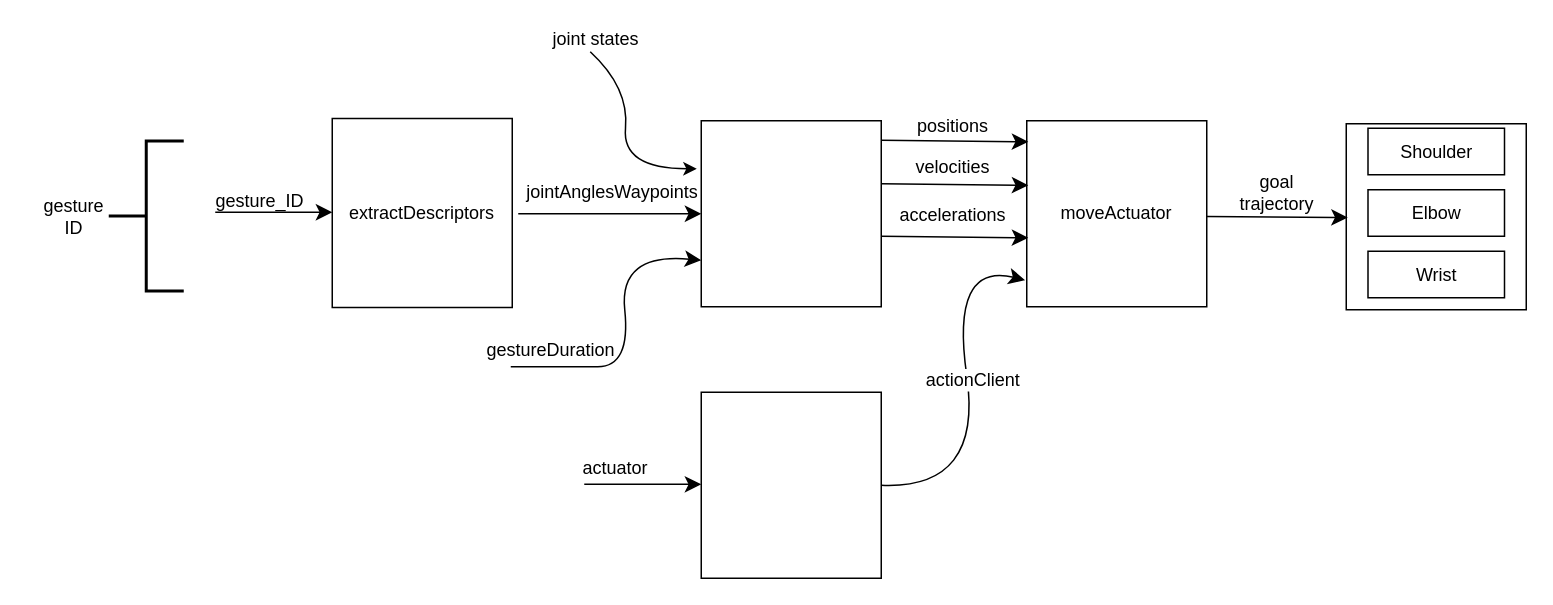
Some shapes in this 1553 by 605 pixel diagram are drawn without their labels. Each missing label, with the centre of its shape:
computeTrajectory: pixel 790 213
createClient: pixel 790 484
